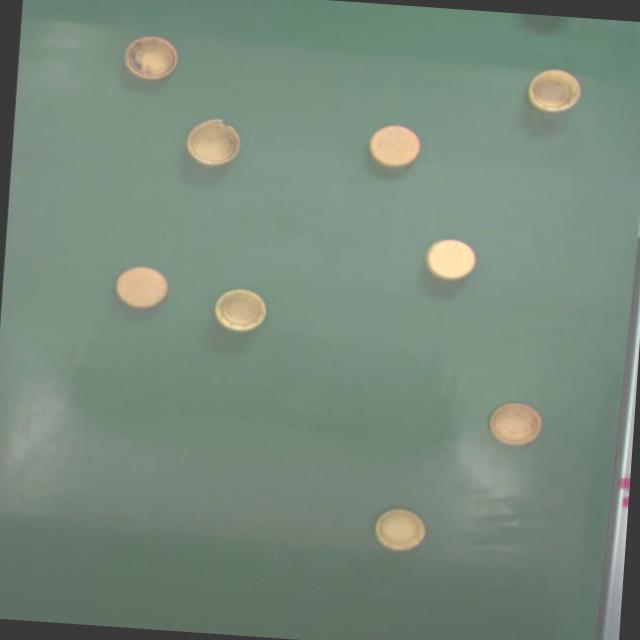others: (186, 116, 242, 166), (525, 67, 582, 114), (123, 34, 179, 81), (212, 287, 268, 333), (372, 507, 428, 553), (366, 122, 422, 168), (114, 264, 169, 310), (488, 402, 544, 446), (423, 236, 478, 280)
